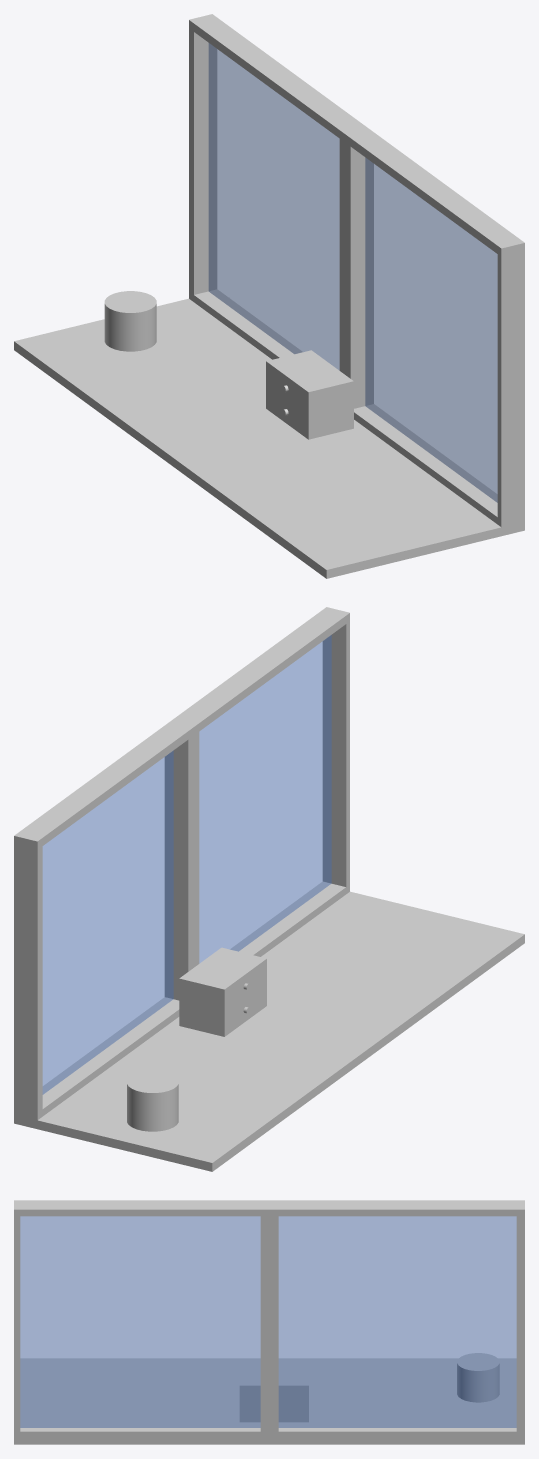
Rendered from Window_w_assets.fbx.
The picture shows the model from 3 angles, top to bottom: view 1: azimuth 30°, elevation 25°; view 2: azimuth 150°, elevation 25°; view 3: azimuth 270°, elevation 25°; orthographic projection. The views are drawn at different scales.
Parts seen in each view (by area): view 1: Model; view 2: Model; view 3: Model.
Part boxes in pixels (box(x1,y1,x2,y2)): Model: box(14, 14, 524, 578); Model: box(14, 607, 524, 1171); Model: box(14, 1200, 524, 1444).
Size of the model in its own units: 0.7 by 0.97 by 1.91.
